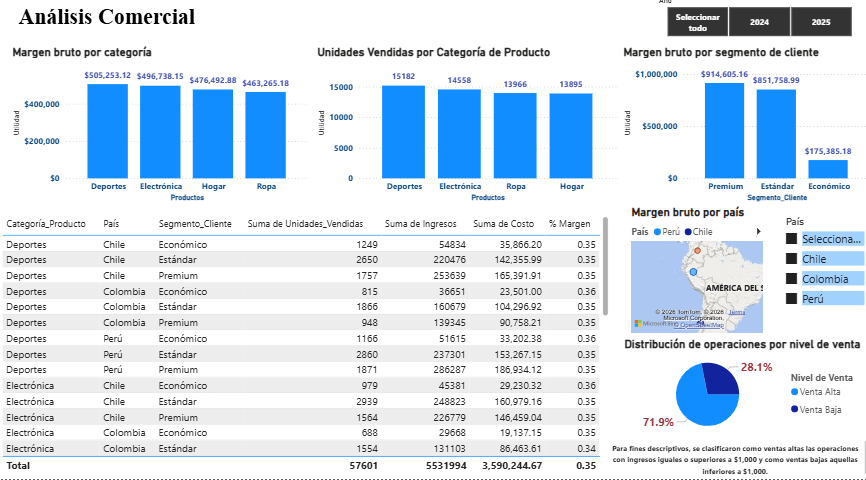

The page's visual inventory and layout, read from the dashboard file:
{"tool":"powerbi","page":{"name":"Análisi Comercial","canvas":[1280,720],"ordinal":1},"visuals":[{"type":"clusteredColumnChart","title":"Margen bruto por categoría","fields":{"Category":["Andes_Retail_Group_2024_2025.Categoría_Producto"],"Y":["Sum(Andes_Retail_Group_2024_2025.Utilidad General)"]},"box":[14.6,84.9,443.4,234.1],"z":0},{"type":"columnChart","title":"Margen bruto por segmento de cliente","fields":{"Y":["Sum(Andes_Retail_Group_2024_2025.Utilidad General)"],"Category":["Andes_Retail_Group_2024_2025.Segmento_Cliente"]},"box":[908.8,84.9,371.7,234.1],"z":1000},{"type":"textbox","box":[23.4,20.5,687.8,52.7],"z":2000},{"type":"map","title":"Margen bruto por país","fields":{"Series":["Andes_Retail_Group_2024_2025.País"],"Size":["Sum(Andes_Retail_Group_2024_2025.Utilidad General)"],"Category":["Andes_Retail_Group_2024_2025.País"]},"box":[920.1,318.9,201.9,192.8],"z":3000},{"type":"clusteredColumnChart","title":"Unidades Vendidas por Categoría de Producto","fields":{"Category":["Andes_Retail_Group_2024_2025.Categoría_Producto"],"Y":["Sum(Andes_Retail_Group_2024_2025.Unidades_Vendidas)"]},"box":[461,84.9,447.8,234.1],"z":4000},{"type":"pieChart","title":"Distribución de operaciones por nivel de venta","fields":{"Category":["Andes_Retail_Group_2024_2025.Nivel_Venta"],"Y":["Sum(Andes_Retail_Group_2024_2025.Utilidad General)"]},"box":[909.5,511.7,361.4,148.8],"z":5000},{"type":"slicer","fields":{"Values":["Andes_Retail_Group_2024_2025.Fecha_Pedido.Variación.Jerarquía de fechas.Año"]},"box":[952,9.1,318.9,63.8],"z":6000},{"type":"tableEx","fields":{"Values":["Andes_Retail_Group_2024_2025.Categoría_Producto","Andes_Retail_Group_2024_2025.País","Andes_Retail_Group_2024_2025.Segmento_Cliente","Sum(Andes_Retail_Group_2024_2025.Unidades_Vendidas)","Sum(Andes_Retail_Group_2024_2025.Ingresos)","Sum(Andes_Retail_Group_2024_2025.Costo)","Andes_Retail_Group_2024_2025.% Margen"]},"box":[0,331,897.4,384.2],"z":7000},{"type":"slicer","fields":{"Values":["Andes_Retail_Group_2024_2025.País"]},"box":[1138.5,330.7,133.2,162.4],"z":8000},{"type":"textbox","box":[883.7,660.5,396.3,59.2],"z":8501}]}

Visuals, with their boxes in screenshot pixels (x1, y1, x2, y2), scaled from the page's 1280x720 canvas onto the 866x480 screenshot:
"Margen bruto por categoría" clusteredColumnChart: 10:57:310:213
"Margen bruto por segmento de cliente" columnChart: 615:57:865:213
textbox: 16:14:481:49
"Margen bruto por país" map: 623:213:759:341
"Unidades Vendidas por Categoría de Producto" clusteredColumnChart: 312:57:615:213
"Distribución de operaciones por nivel de venta" pieChart: 615:341:860:440
slicer - Andes_Retail_Group_2024_2025.Fecha_Pedido.Variación.Jerarquía de fechas.Año: 644:6:860:49
tableEx - Andes_Retail_Group_2024_2025.Categoría_Producto x Andes_Retail_Group_2024_2025.País: 0:221:607:477
slicer - Andes_Retail_Group_2024_2025.País: 770:220:860:329
textbox: 598:440:865:479
